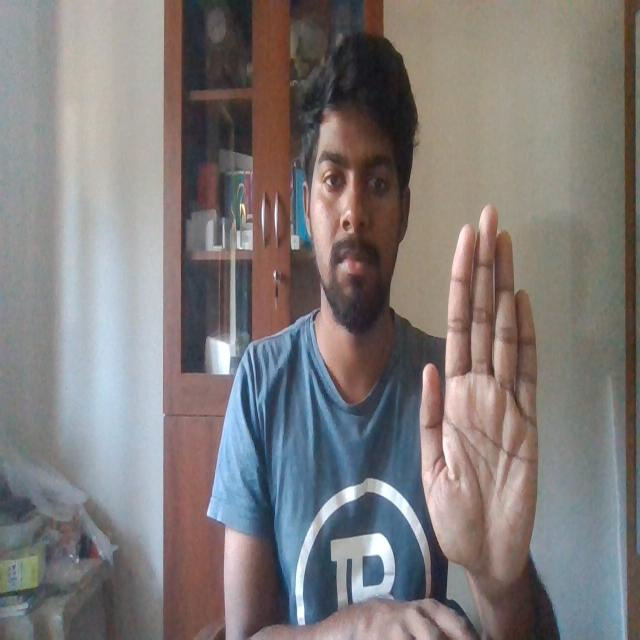Hello: (416, 194, 540, 618)
